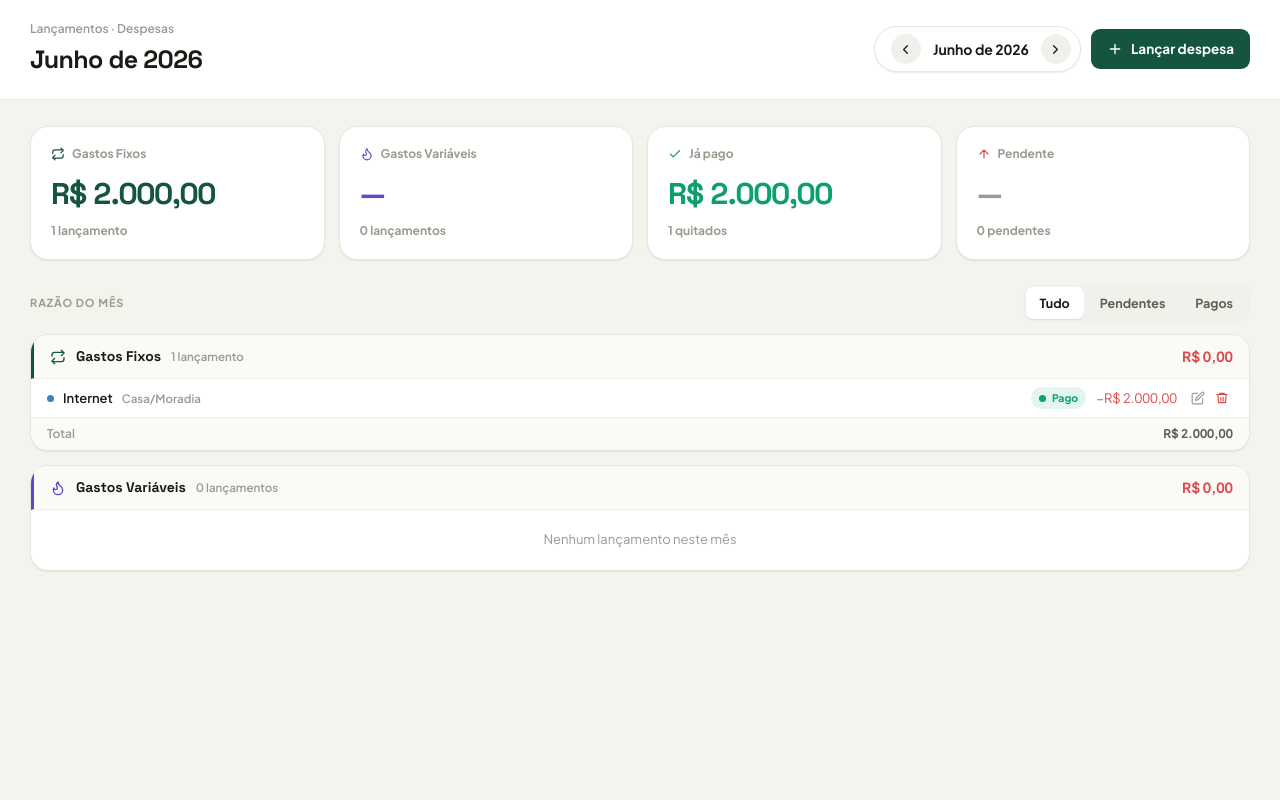
DebitoPage › offers 'Excluir todos os meses' for a monthly recurring expense (no installments)
Expected: the text "Internet" is shown, 63,388 -> 113,408
Click the 9th button at (1222, 398), box 1211,387 -> 1233,409
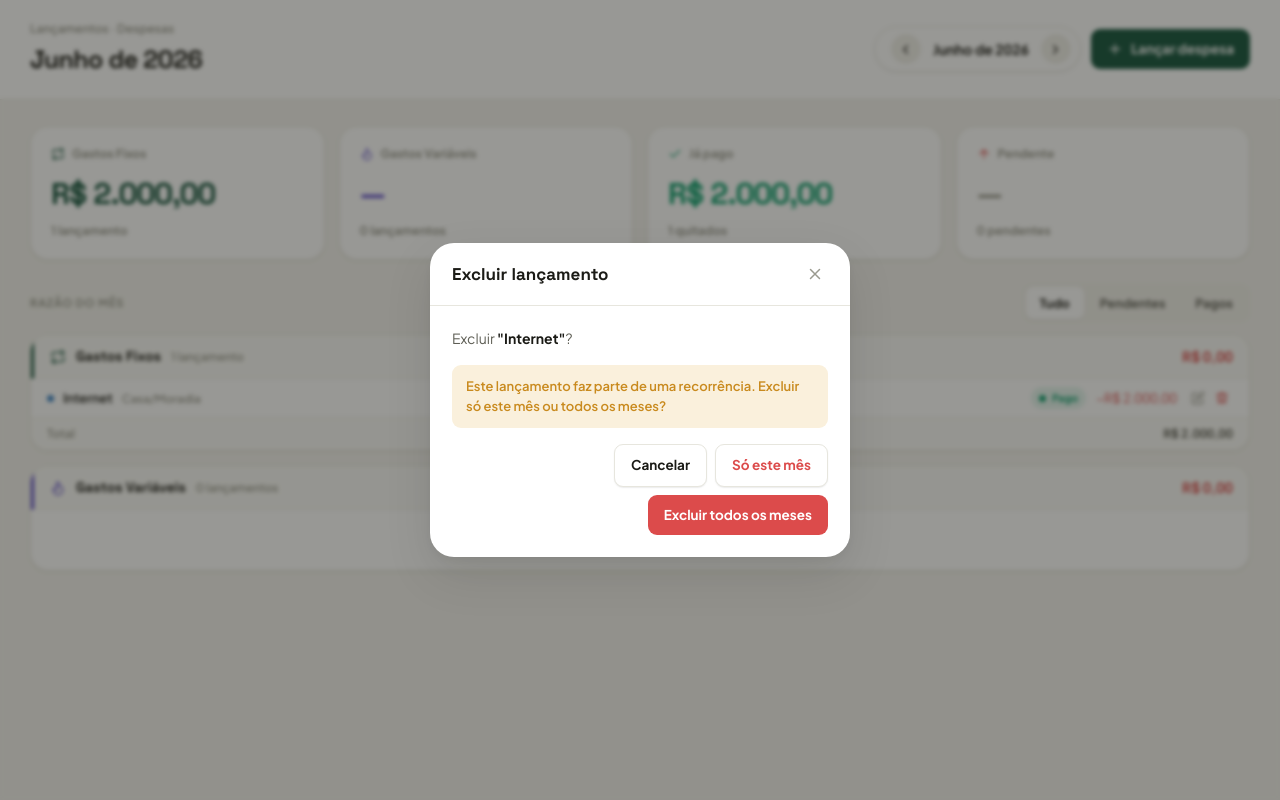
Result: the button "Só este mês" is shown at 715,444 -> 828,487
Result: the button "Excluir todos os meses" is shown at 648,494 -> 828,535
